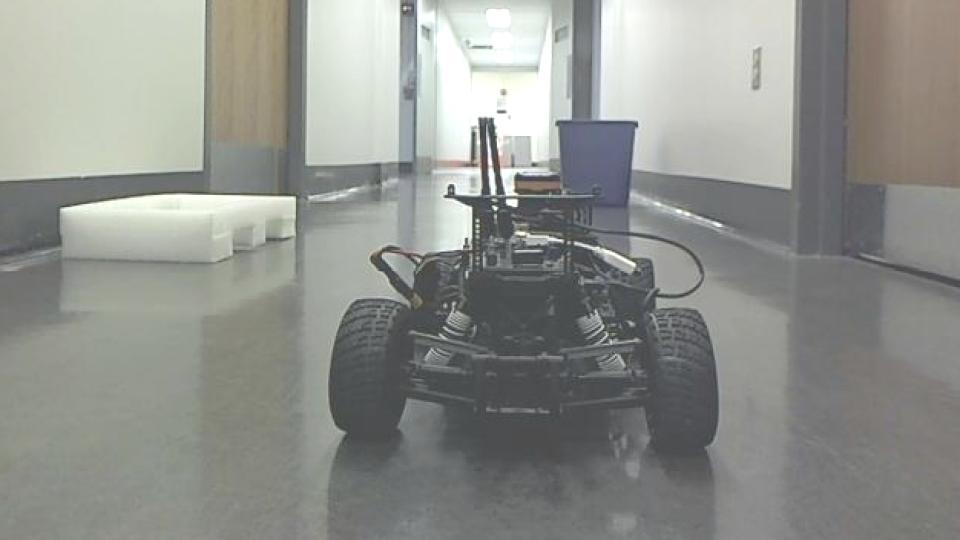car: (325, 115, 724, 457)
